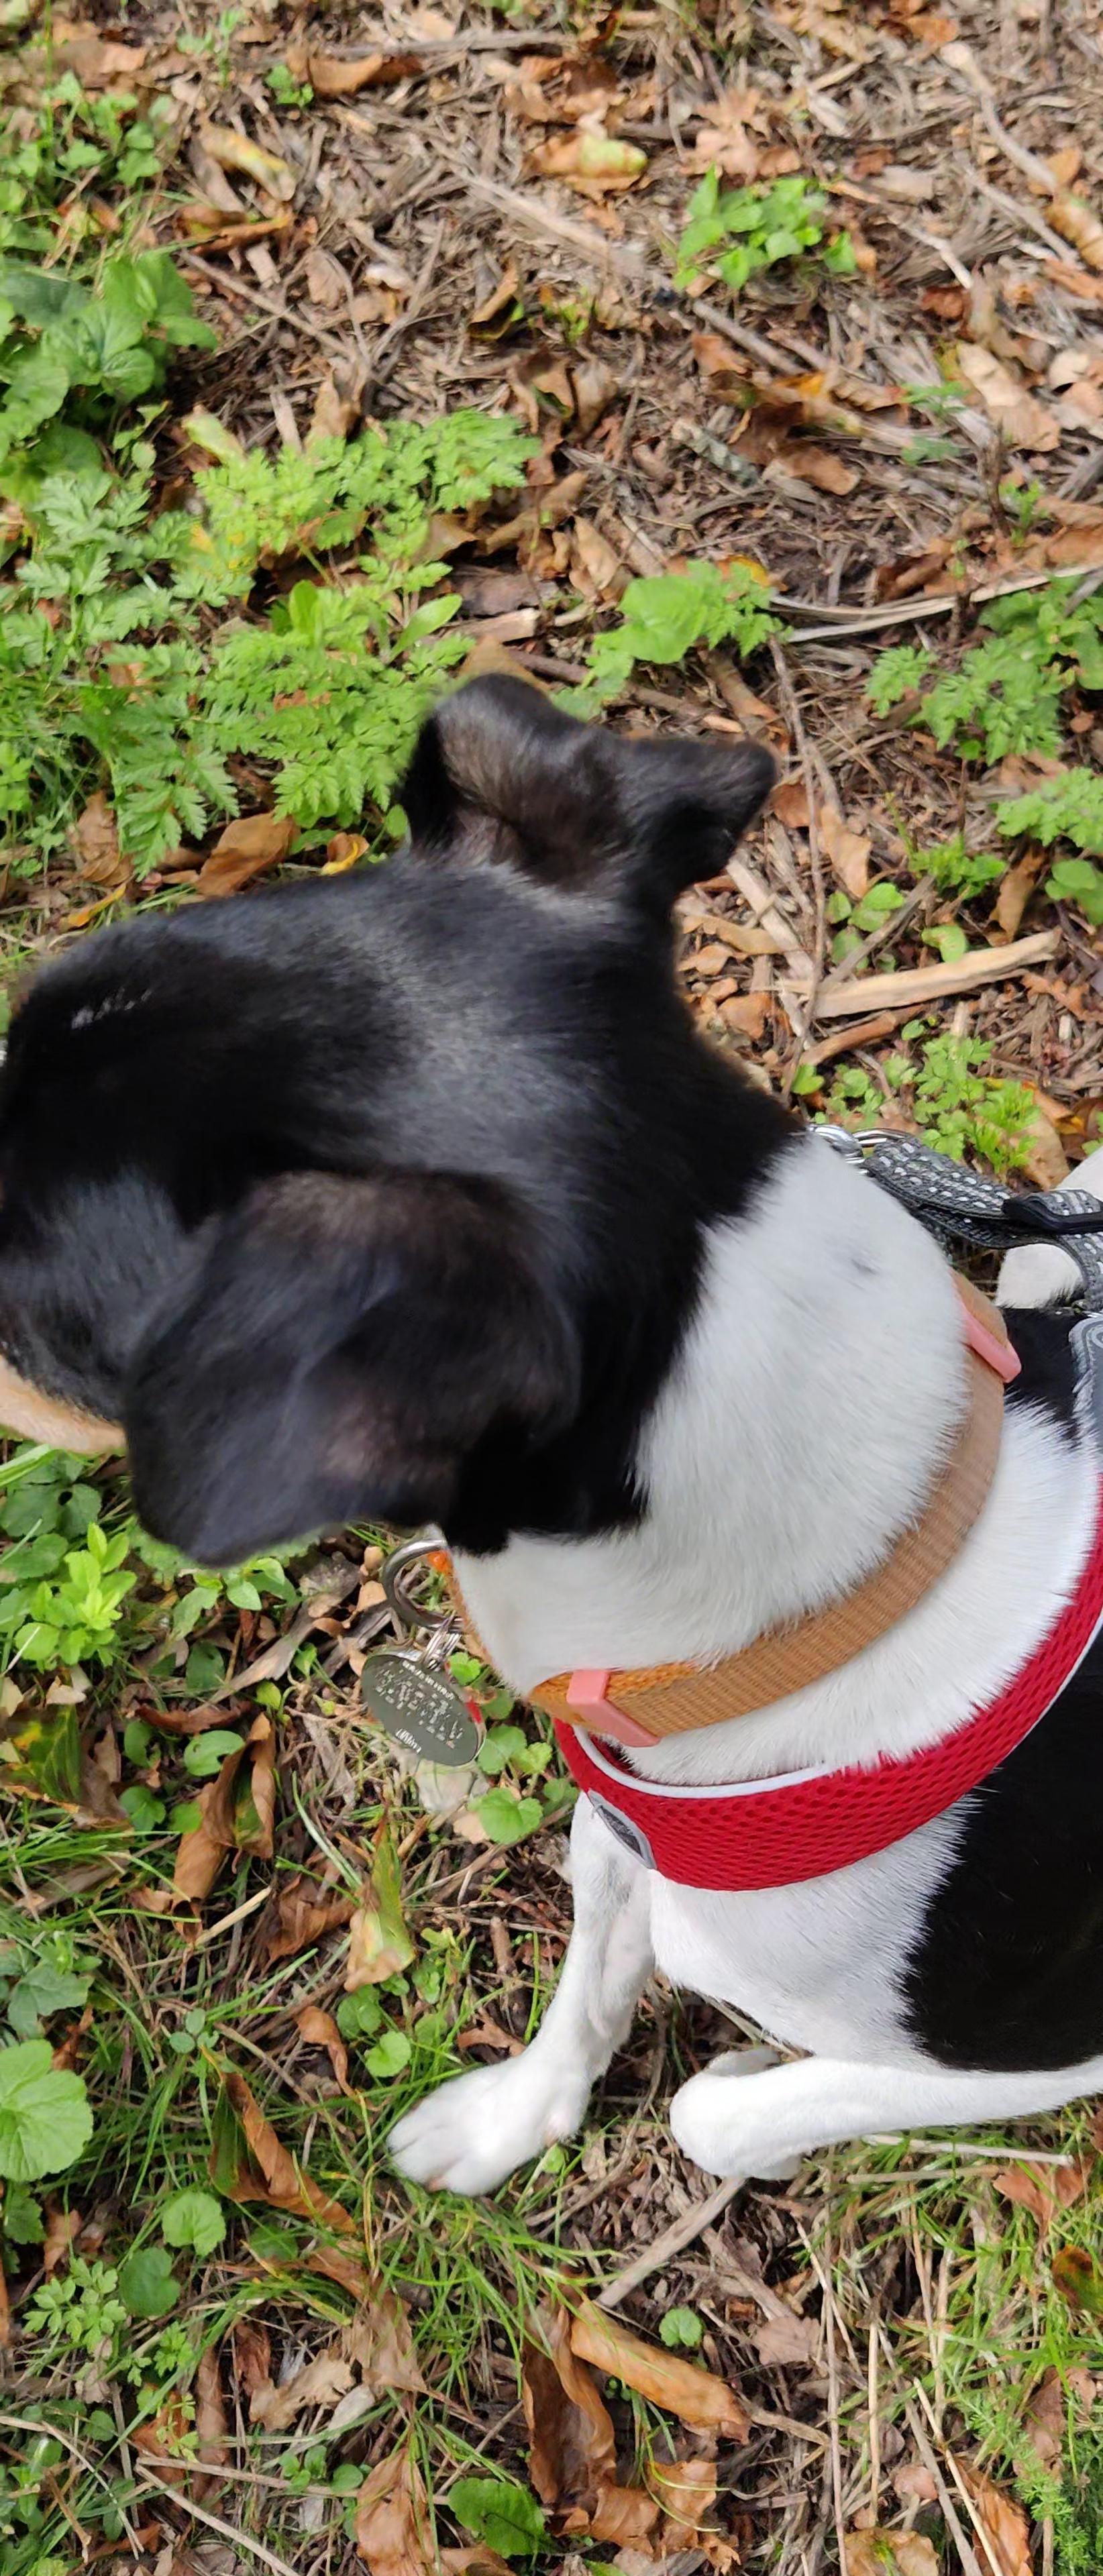Dog: (0, 649, 1103, 2238)
